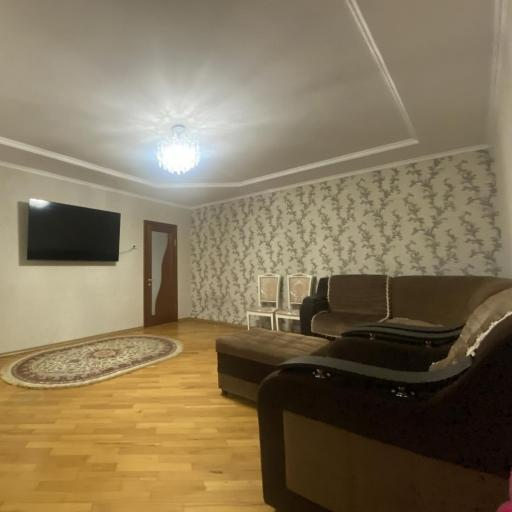bus: (275, 274, 313, 330), (247, 274, 281, 329)
corridor: (144, 221, 177, 326)
sidewalk: (259, 277, 511, 511), (300, 275, 511, 338)
